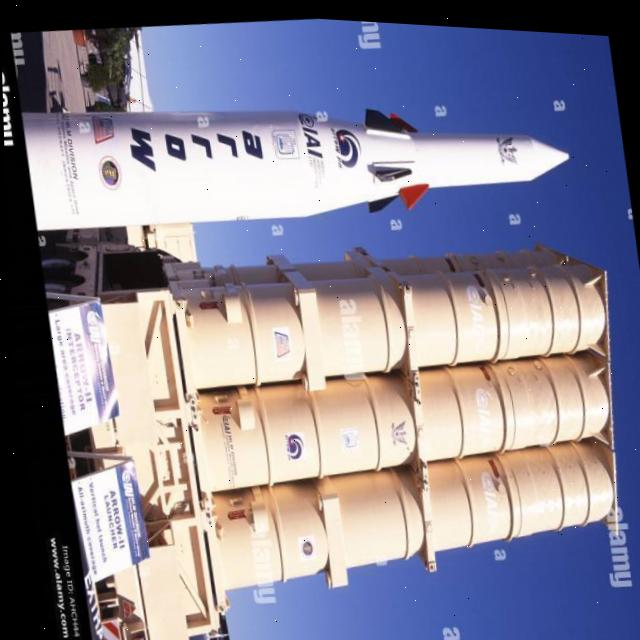missile: (21, 48, 573, 260)
